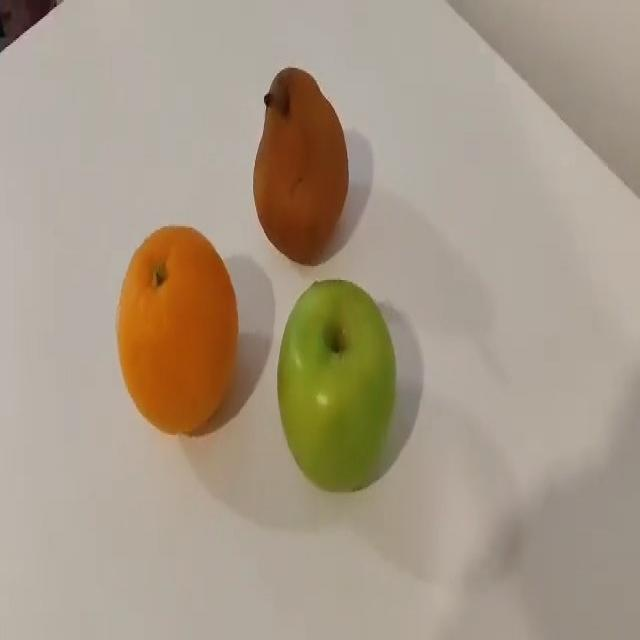Apple: (276, 278, 396, 492), (252, 66, 349, 265)
Orange: (115, 224, 239, 434)
